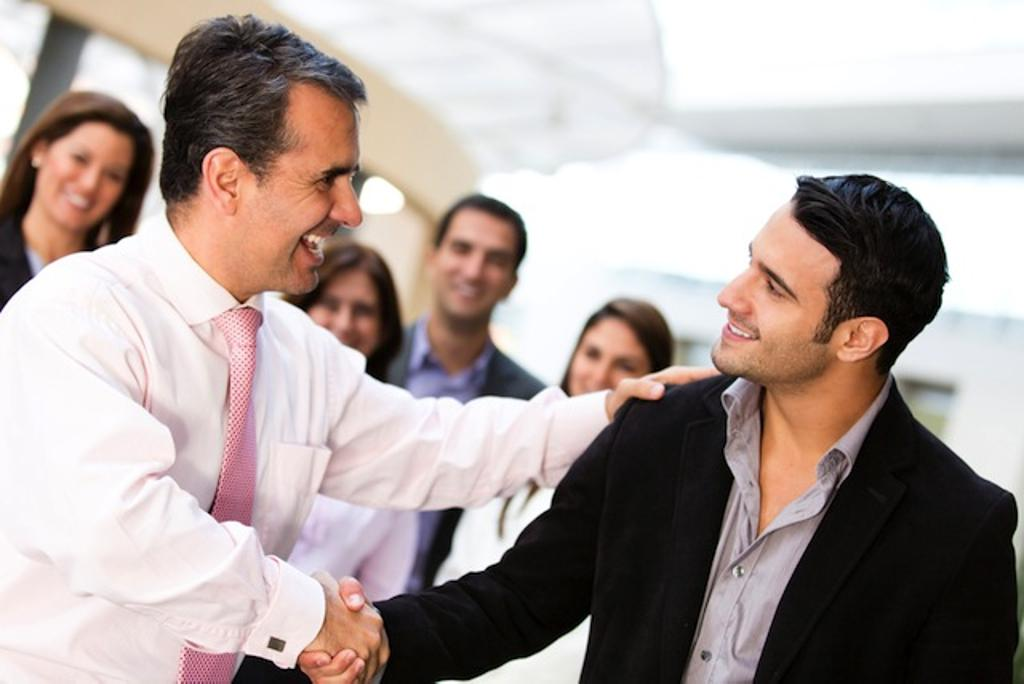face: (272, 76, 366, 292), (714, 210, 832, 380), (300, 256, 382, 378), (48, 120, 128, 232), (562, 320, 656, 410), (436, 212, 510, 318)
